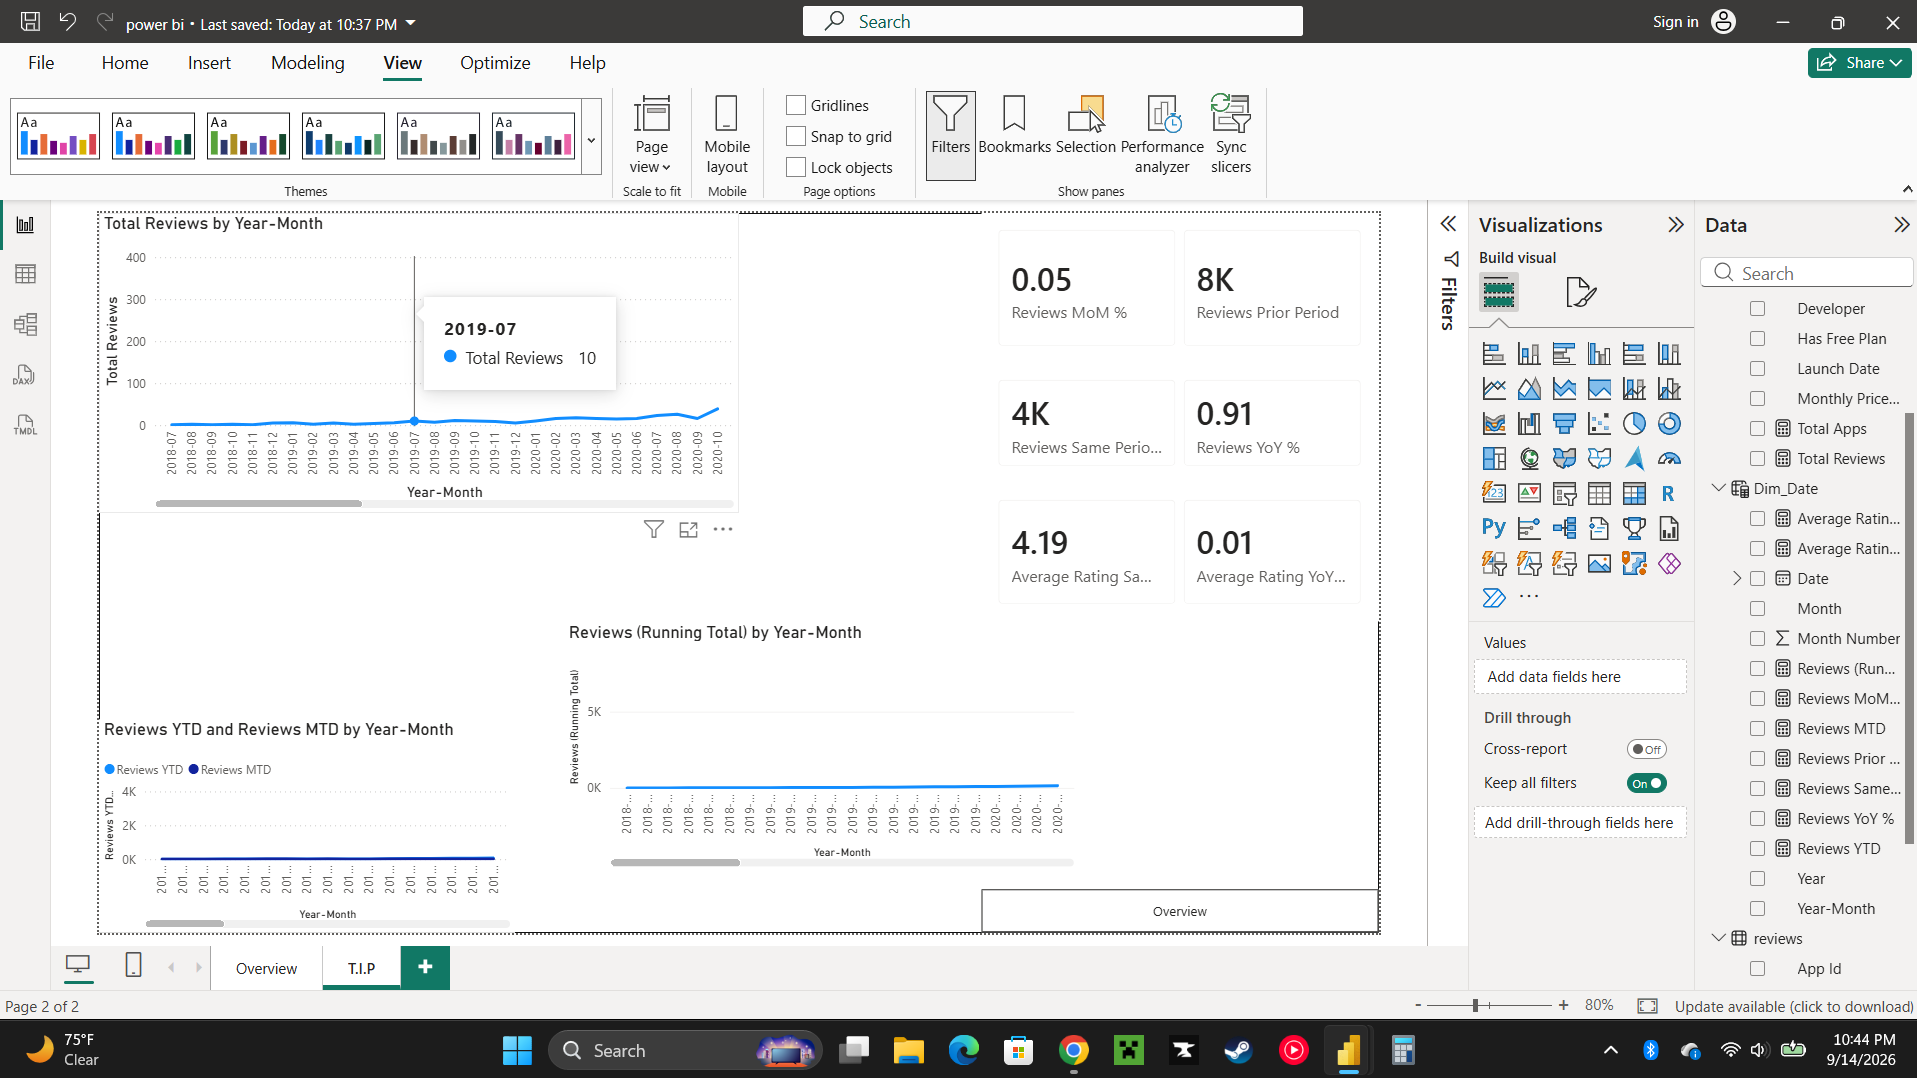

This screenshot's page, from the dashboard's own definition file:
{"tool":"powerbi","page":{"name":"T.I.P","canvas":[1280,720],"ordinal":1},"visuals":[{"type":"pageNavigator","box":[882.5,676.2,397.5,43.8],"z":0},{"type":"lineChart","fields":{"Y":["apps.Total Reviews"],"Category":["Dim_Date.Year-Month"]},"box":[0,0,640,300],"z":1},{"type":"cardVisual","fields":{"Data":["Dim_Date.Reviews MoM %","Dim_Date.Reviews Prior Period"]},"box":[882.5,0,397.5,150],"z":3},{"type":"cardVisual","fields":{"Data":["Dim_Date.Reviews Same Period Last Year","Dim_Date.Reviews YoY %"]},"box":[882.5,150,397.5,120],"z":4},{"type":"cardVisual","fields":{"Data":["Dim_Date.Average Rating Same Period Last Year","Dim_Date.Average Rating YoY Change"]},"box":[882.5,270,397.5,138.8],"z":5},{"type":"lineChart","fields":{"Category":["Dim_Date.Year-Month"],"Y":["Dim_Date.Reviews YTD","Dim_Date.Reviews MTD"]},"box":[0,506.2,416.2,213.8],"z":6},{"type":"lineChart","fields":{"Category":["Dim_Date.Year-Month"],"Y":["Dim_Date.Reviews (Running Total)"]},"box":[465,408.8,515,250],"z":7}]}

Visuals, with their boxes on the page's 1280x720 design canvas (x1, y1, x2, y2). These are canvas units, not pixel positions in the 1917x1078 screenshot, which may show the page scaled, cropped or inside an application window:
pageNavigator: box=[882, 676, 1280, 720]
lineChart - apps.Total Reviews x Dim_Date.Year-Month: box=[0, 0, 640, 300]
cardVisual - Dim_Date.Reviews MoM % x Dim_Date.Reviews Prior Period: box=[882, 0, 1280, 150]
cardVisual - Dim_Date.Reviews Same Period Last Year x Dim_Date.Reviews YoY %: box=[882, 150, 1280, 270]
cardVisual - Dim_Date.Average Rating Same Period Last Year x Dim_Date.Average Rating YoY Change: box=[882, 270, 1280, 409]
lineChart - Dim_Date.Year-Month x Dim_Date.Reviews YTD: box=[0, 506, 416, 720]
lineChart - Dim_Date.Year-Month x Dim_Date.Reviews (Running Total): box=[465, 409, 980, 659]
